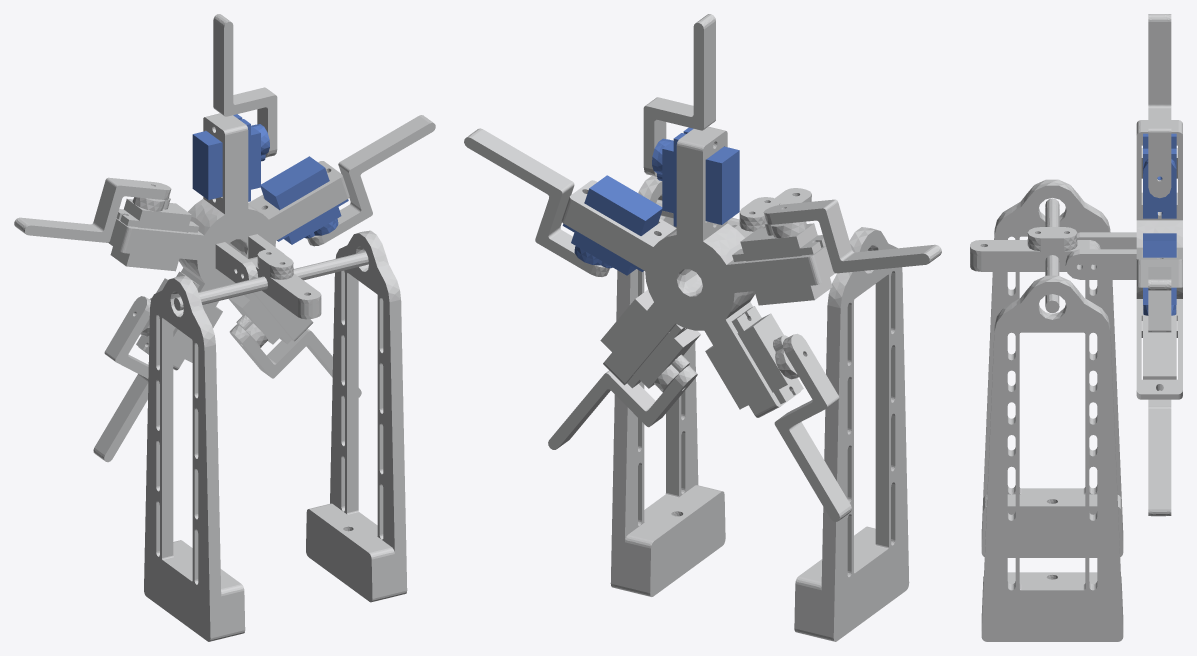
File: flower.glb
The picture shows the model from 3 angles, left to right: view 1: azimuth 30°, elevation 25°; view 2: azimuth 150°, elevation 25°; view 3: azimuth 270°, elevation 25°; orthographic projection. The views are drawn at different scales.
Parts seen in each view (by area): view 1: part20, part19, part10, part13, part15, part11, part12, part9, part8, part2, part14, part18 (+4 smaller); view 2: part19, part10, part20, part13, part15, part11, part12, part9, part4, part8, part2, part14 (+3 smaller); view 3: part20, part19, part10, part11, part16, part14, part6, part15, part9, part8, part18, part17.
Boxes of the visible parts, x1,y1,x2,y2 form: part20: (306, 230, 407, 602); part19: (144, 275, 245, 641); part10: (108, 113, 349, 370); part13: (93, 296, 150, 462); part15: (307, 115, 435, 246); part11: (213, 14, 277, 157); part12: (14, 177, 171, 242); part9: (192, 114, 269, 201); part8: (261, 156, 348, 244); part2: (110, 197, 198, 271); part14: (229, 324, 361, 397); part18: (174, 251, 368, 310); part19: (794, 227, 909, 641); part10: (561, 126, 834, 417); part20: (610, 175, 725, 596); part13: (774, 333, 851, 521); part15: (464, 128, 609, 276); part11: (643, 14, 715, 176); part12: (763, 199, 941, 273); part9: (652, 127, 739, 226); part4: (705, 306, 803, 409); part8: (562, 175, 662, 275); part2: (732, 221, 832, 305); part14: (548, 365, 697, 449); part20: (981, 275, 1123, 641); part19: (981, 179, 1123, 557); part10: (1065, 120, 1182, 399); part11: (1148, 14, 1171, 198); part16: (970, 240, 1100, 271); part14: (1148, 390, 1171, 516); part6: (1143, 314, 1176, 390); part15: (1148, 267, 1171, 332); part9: (1143, 133, 1176, 218); part8: (1143, 233, 1176, 315); part18: (1045, 198, 1059, 313); part17: (1027, 227, 1077, 245).
Bounding box in the file's own units: 0.1777 × 0.2233 × 0.0749.
